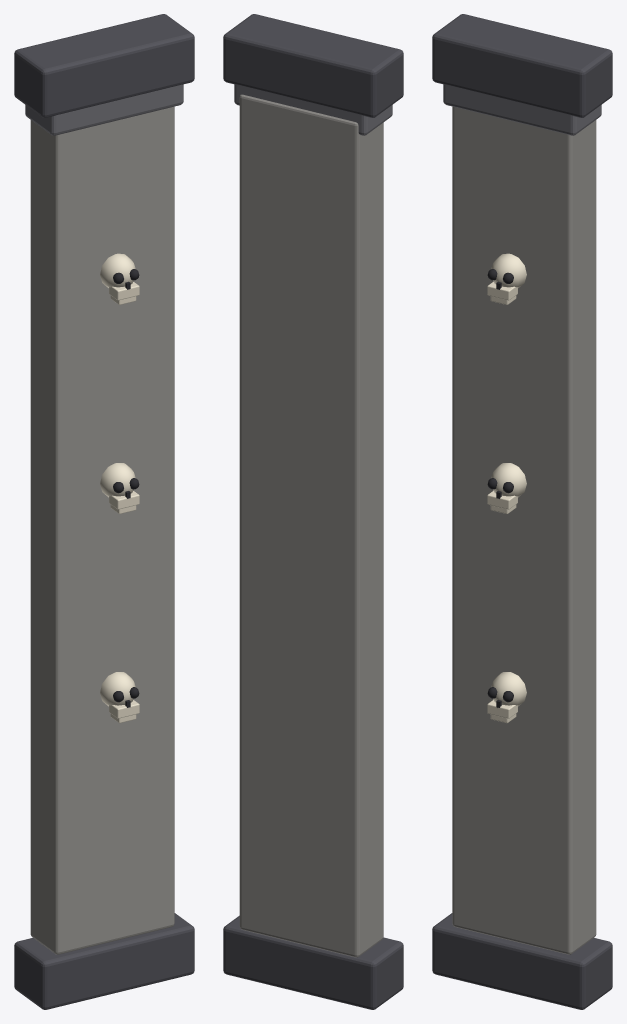
File: pilaster_skull.glb
The picture shows the model from 3 angles, left to right: view 1: azimuth 30°, elevation 25°; view 2: azimuth 150°, elevation 25°; view 3: azimuth 330°, elevation 25°; orthographic projection.
Visible parts, largest first — view 1: GD_pilaster_skull__m1, GD_pilaster_skull__m0, GD_pilaster_skull__m3, GD_pilaster_skull__m5, GD_pilaster_skull__m4; view 2: GD_pilaster_skull__m1, GD_pilaster_skull__m0, GD_pilaster_skull__m5; view 3: GD_pilaster_skull__m1, GD_pilaster_skull__m0, GD_pilaster_skull__m3, GD_pilaster_skull__m5, GD_pilaster_skull__m4.
Part boxes in pixels (bbox=[...]): GD_pilaster_skull__m1: bbox=[30, 106, 174, 954]; GD_pilaster_skull__m0: bbox=[14, 14, 194, 1009]; GD_pilaster_skull__m3: bbox=[100, 253, 139, 723]; GD_pilaster_skull__m5: bbox=[25, 84, 183, 135]; GD_pilaster_skull__m4: bbox=[113, 269, 139, 707]; GD_pilaster_skull__m1: bbox=[239, 94, 383, 957]; GD_pilaster_skull__m0: bbox=[223, 14, 403, 1009]; GD_pilaster_skull__m5: bbox=[234, 84, 392, 135]; GD_pilaster_skull__m1: bbox=[452, 106, 596, 954]; GD_pilaster_skull__m0: bbox=[432, 14, 612, 1009]; GD_pilaster_skull__m3: bbox=[487, 253, 526, 723]; GD_pilaster_skull__m5: bbox=[443, 84, 601, 135]; GD_pilaster_skull__m4: bbox=[487, 269, 513, 707].
Size of the model in its own units: 0.46 by 2.7 by 0.208.
